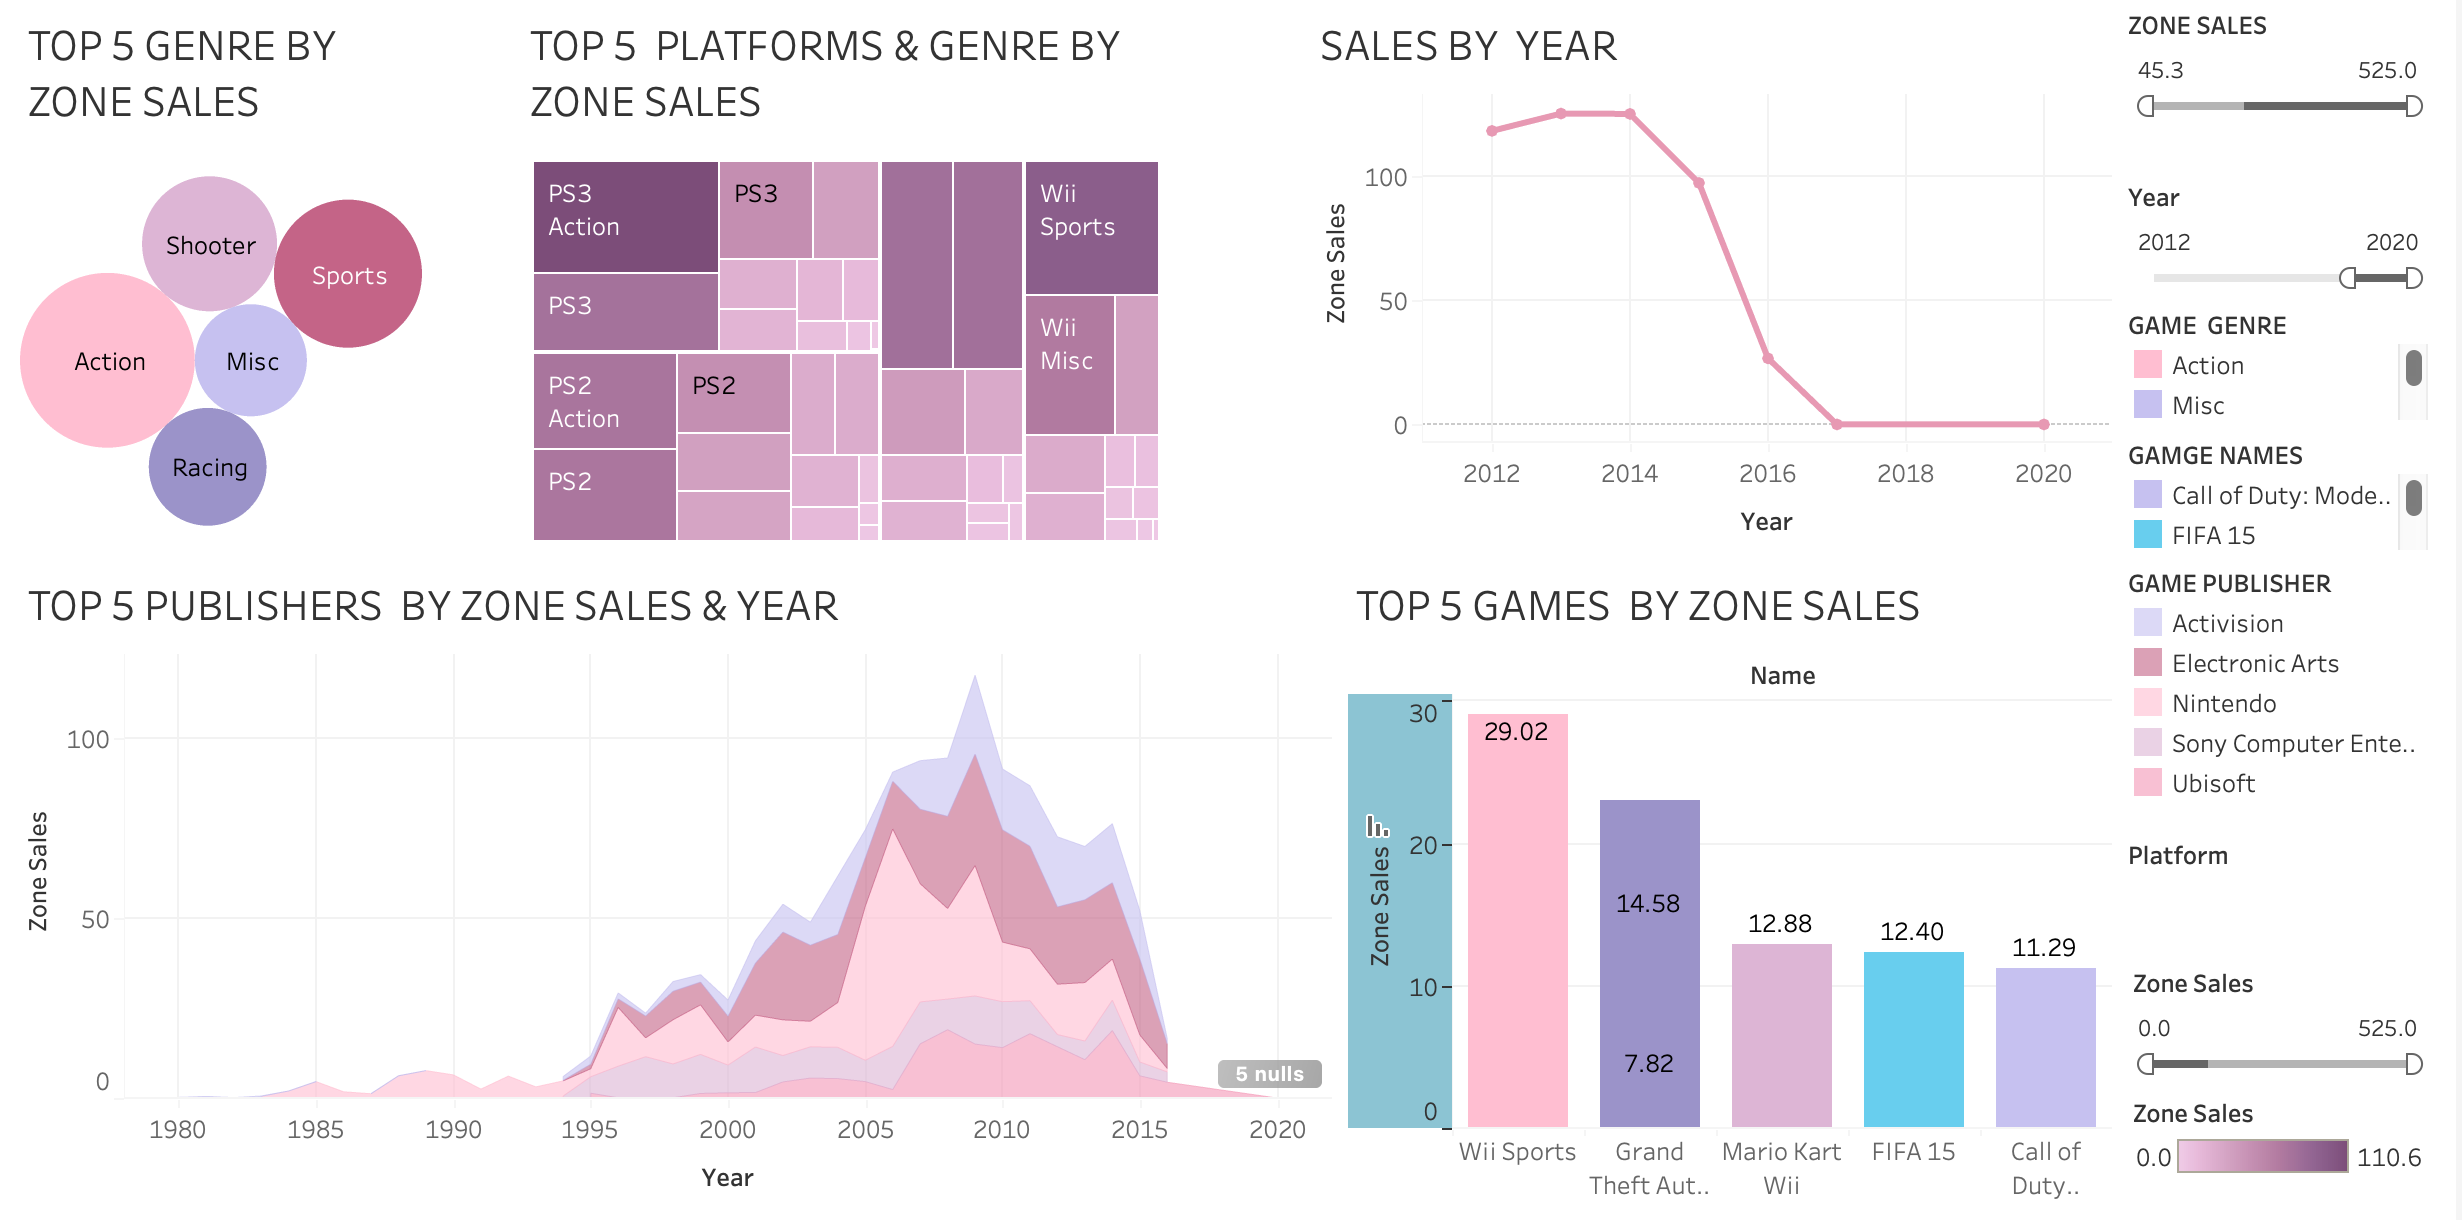

This screenshot's page, from the dashboard's own definition file:
{"tool":"tableau","page":{"name":"TOP 5 GAMES,GENRE AND PUBLISHER BY ZONE SALES (2)","canvas":[1000,1000],"units":"permille","ordinal":2},"visuals":[{"type":"worksheet","title":"TOP 5 genre by sales","mark":"Circle","box":[6.5,12.7,204.1,448.2]},{"type":"worksheet","title":"TOP 5 PLATFORM & genre by sales (2)","mark":"Automatic","box":[210.6,12.7,317.9,448.2]},{"type":"worksheet","title":"TOP 5 GENRE ZONE SALES BY YEAR","mark":"Automatic","rows":["Calculation_167336942263980033"],"cols":["Year"],"box":[528.4,12.7,335,448.2]},{"type":"filter","title":"TOP 5 genre by sales","param":"[federated.1hq2giy18omhrr17rz2170e2f8a8].[sum:Calculation_167336942263980033:qk]","box":[863.4,12.7,130.1,136.7]},{"type":"filter","title":"TOP 5 GENRE ZONE SALES BY YEAR","param":"[federated.1hq2giy18omhrr17rz2170e2f8a8].[none:Year:qk]","box":[863.4,149.5,130.1,103.7]},{"type":"legend","title":"TOP 5 genre by sales","param":"[federated.1hq2giy18omhrr17rz2170e2f8a8].[none:Genre:nk]","box":[863.4,253.1,130.1,103.7]},{"type":"legend","title":"TOP 5 GAMES BY  SALES","param":"[federated.1hq2giy18omhrr17rz2170e2f8a8].[none:Name:nk]","box":[863.4,356.8,130.1,103.7]},{"type":"legend","title":"TOP 5 PUBLISHER BY ZONE AND YEAR","param":"[federated.1hq2giy18omhrr17rz2170e2f8a8].[none:Publisher:nk]","box":[863.4,460.4,130.1,216.2]},{"type":"worksheet","title":"TOP 5 PUBLISHER BY ZONE AND YEAR","mark":"Area","rows":["Calculation_167336942263980033"],"cols":["Year"],"box":[6.5,460.9,539.8,526.4]},{"type":"worksheet","title":"TOP 5 GAMES BY  SALES","mark":"Automatic","rows":["Calculation_167336942263980033"],"cols":["Name"],"box":[546.3,460.9,317.1,526.4]},{"type":"filter","title":"TOP 5 PLATFORM & genre by sales (2)","param":"[federated.1hq2giy18omhrr17rz2170e2f8a8].[none:Platform:nk]","box":[863.4,676.6,130.1,103.7]},{"type":"filter","title":"TOP 5 PLATFORM & genre by sales (2)","param":"[federated.1hq2giy18omhrr17rz2170e2f8a8].[sum:Calculation_167336942263980033:qk]","box":[863.4,780.3,130.1,103.7]},{"type":"legend","title":"TOP 5 PLATFORM & genre by sales (2)","param":"[federated.1hq2giy18omhrr17rz2170e2f8a8].[sum:Calculation_167336942263980033:qk]","box":[863.4,883.9,130.1,103.4]}]}

Visuals, with their boxes on the dashboard's canvas, which has no fixed pixel size, in thousandths of its width and height (x1, y1, x2, y2). These are canvas units, not pixel positions in the 2462x1220 screenshot, which may show the page scaled, cropped or inside an application window:
"TOP 5 genre by sales" worksheet (Circle marks): region(6, 13, 211, 461)
"TOP 5 PLATFORM & genre by sales (2)" worksheet: region(211, 13, 528, 461)
"TOP 5 GENRE ZONE SALES BY YEAR" worksheet: region(528, 13, 863, 461)
"TOP 5 genre by sales" filter: region(863, 13, 994, 149)
"TOP 5 GENRE ZONE SALES BY YEAR" filter: region(863, 150, 994, 253)
"TOP 5 genre by sales" legend: region(863, 253, 994, 357)
"TOP 5 GAMES BY  SALES" legend: region(863, 357, 994, 460)
"TOP 5 PUBLISHER BY ZONE AND YEAR" legend: region(863, 460, 994, 677)
"TOP 5 PUBLISHER BY ZONE AND YEAR" worksheet (Area marks): region(6, 461, 546, 987)
"TOP 5 GAMES BY  SALES" worksheet: region(546, 461, 863, 987)
"TOP 5 PLATFORM & genre by sales (2)" filter: region(863, 677, 994, 780)
"TOP 5 PLATFORM & genre by sales (2)" filter: region(863, 780, 994, 884)
"TOP 5 PLATFORM & genre by sales (2)" legend: region(863, 884, 994, 987)
